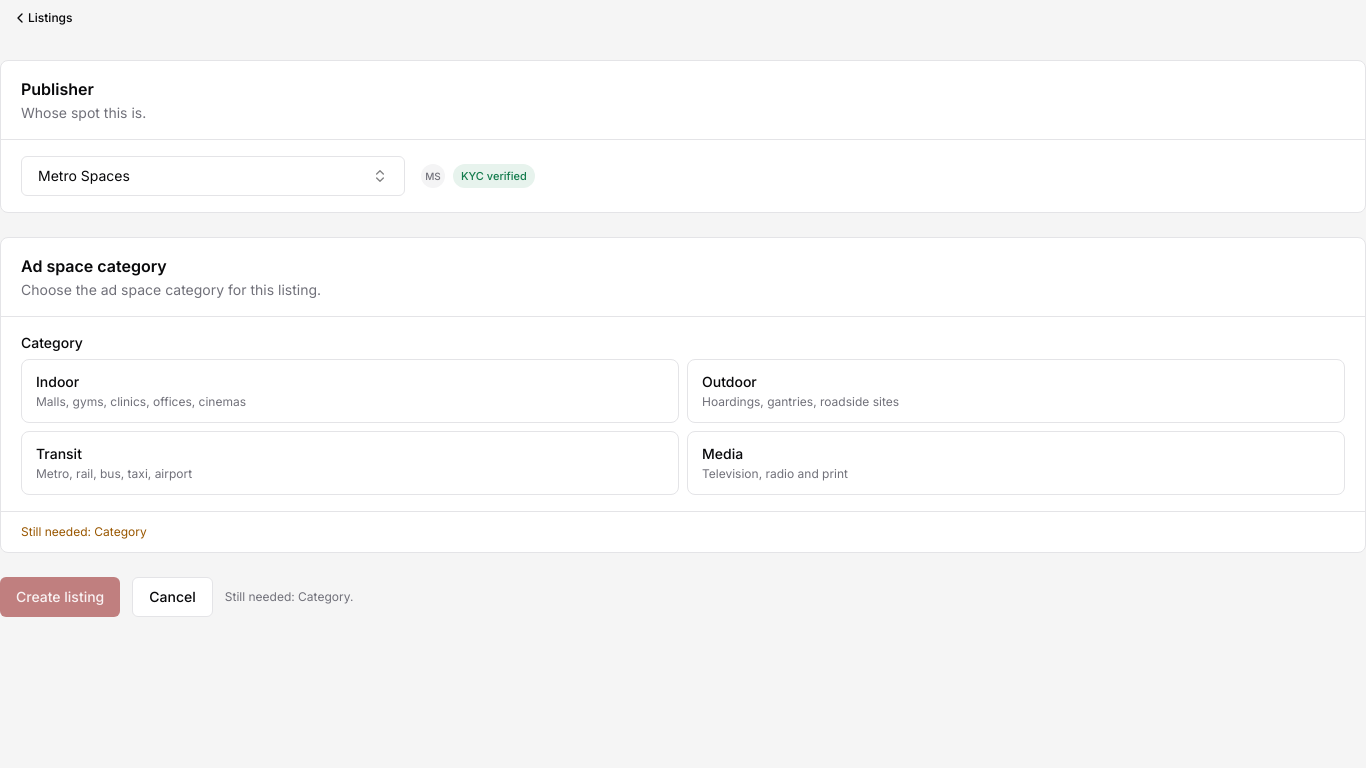
Test case: ListingCreate drawn from the flow › starts on the flow's first screen with the desk's publisher card, and only branches once a category is chosen
Expected: the heading "Publisher" is shown, [21, 79, 94, 99]
Expected: the heading "Ad space category" is shown, [21, 256, 167, 276]
What coordinates should you click on to do the following:
click the radio button labelled "Media Television, radio and print"
I would click on:
 (723, 454)
Its box is [687, 431, 1345, 495].
(page scrolled)
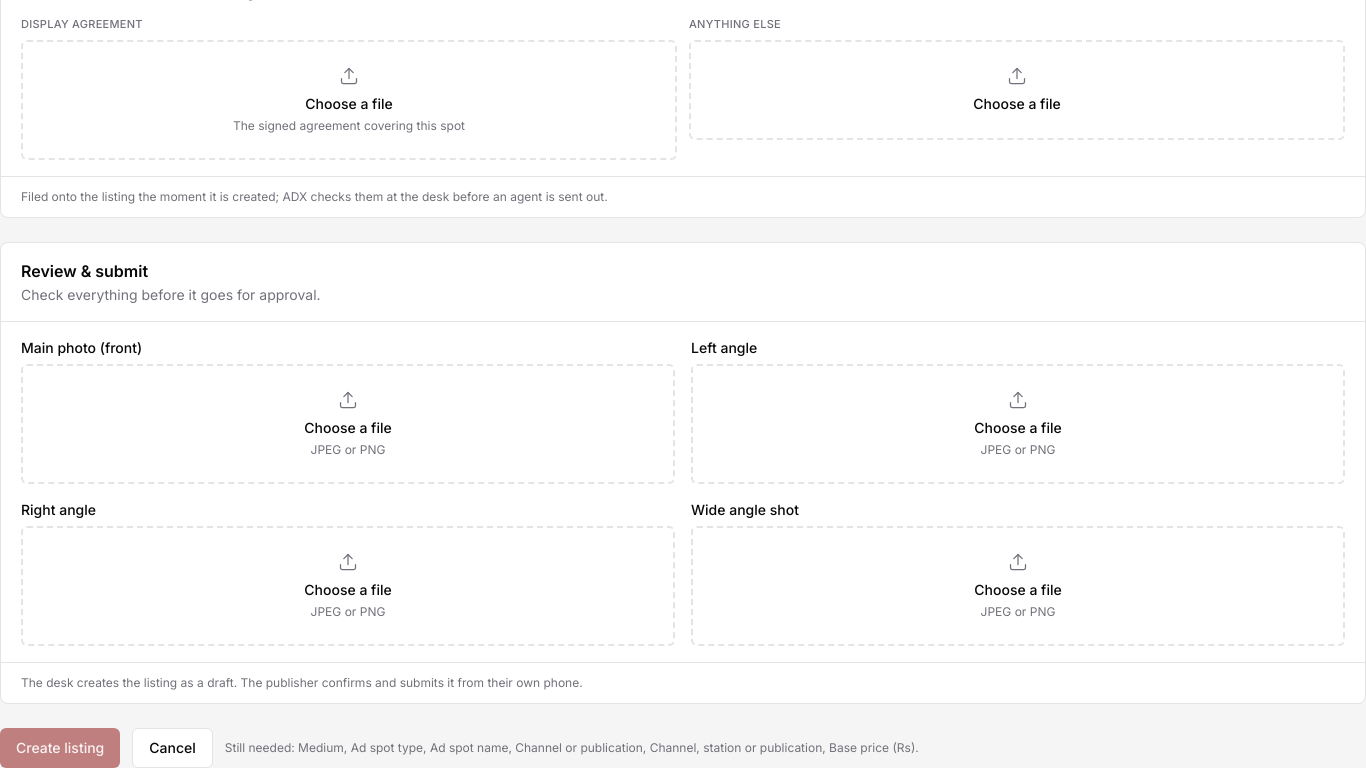
Result: the text "The publisher confirms and submits it from their own phone" is shown at [21, 675, 583, 690]
